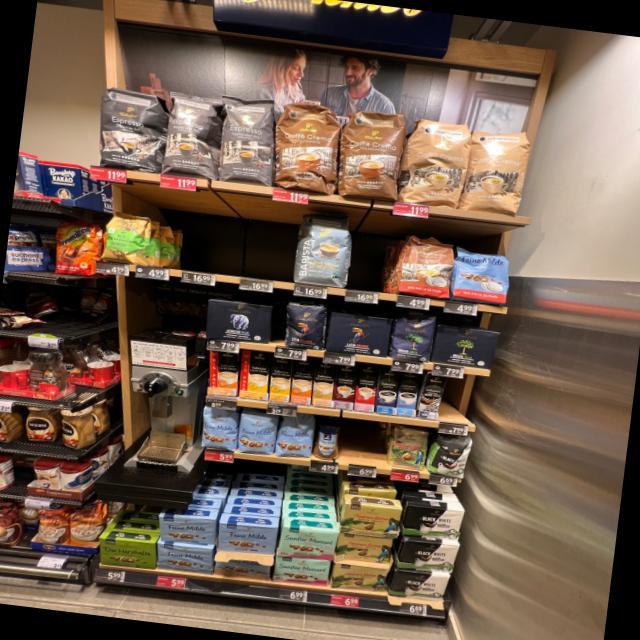AB Gemahlen: (202, 298, 274, 346)
Athiopien Bohne: (100, 208, 150, 266)
BM Bohne: (388, 310, 437, 364)
BM Gemahlen: (430, 322, 500, 371)
BW Bohne: (428, 432, 472, 480)
BW Gemahlen: (402, 501, 466, 541), (387, 568, 451, 604), (396, 538, 460, 573)
Barista CC: (293, 208, 355, 288)
CC Mild: (400, 114, 472, 208), (461, 125, 532, 218)
CC Vollmundig: (396, 232, 456, 299)
CC Vollmundig 36 Pads: (269, 97, 347, 196), (334, 104, 410, 203)
Colombia BB Bohne: (386, 424, 430, 472)
Colombia BB Gemahlen: (339, 500, 402, 540), (334, 532, 395, 565), (330, 562, 391, 592)
Espresso M Art: (211, 94, 281, 185), (159, 86, 226, 180)
Espresso S Art: (92, 82, 169, 174)
FM 36 Pads: (449, 245, 514, 305)
FM Bohne: (234, 410, 278, 456), (197, 406, 240, 452), (276, 416, 317, 460)
FM Gemahlen: (218, 521, 277, 555), (159, 514, 217, 546), (157, 543, 213, 575)
FM Instant: (313, 422, 344, 462)
Herzhatfe Mundig: (95, 536, 157, 570)
LG Bohne: (280, 300, 328, 352)
LG Gemahlen: (325, 311, 394, 359)
SM Gemahlen: (277, 524, 340, 560), (274, 556, 332, 585)
Simo CCMild: (238, 350, 272, 400)
Simo CCMild bigpack: (268, 356, 293, 401)
Simo CCVollmundig: (208, 349, 238, 396)
Simo CCVollmundig bigpack: (290, 359, 314, 405)
Simo Decaff: (311, 360, 337, 406)
Simo Es Brazil: (353, 363, 379, 412)
Simo Es Caramel: (332, 364, 357, 410)
Simo Es Elegant: (417, 372, 447, 419)
Simo Es Kraft: (375, 367, 400, 415)
Simo Es Vanilla: (396, 371, 420, 416)
